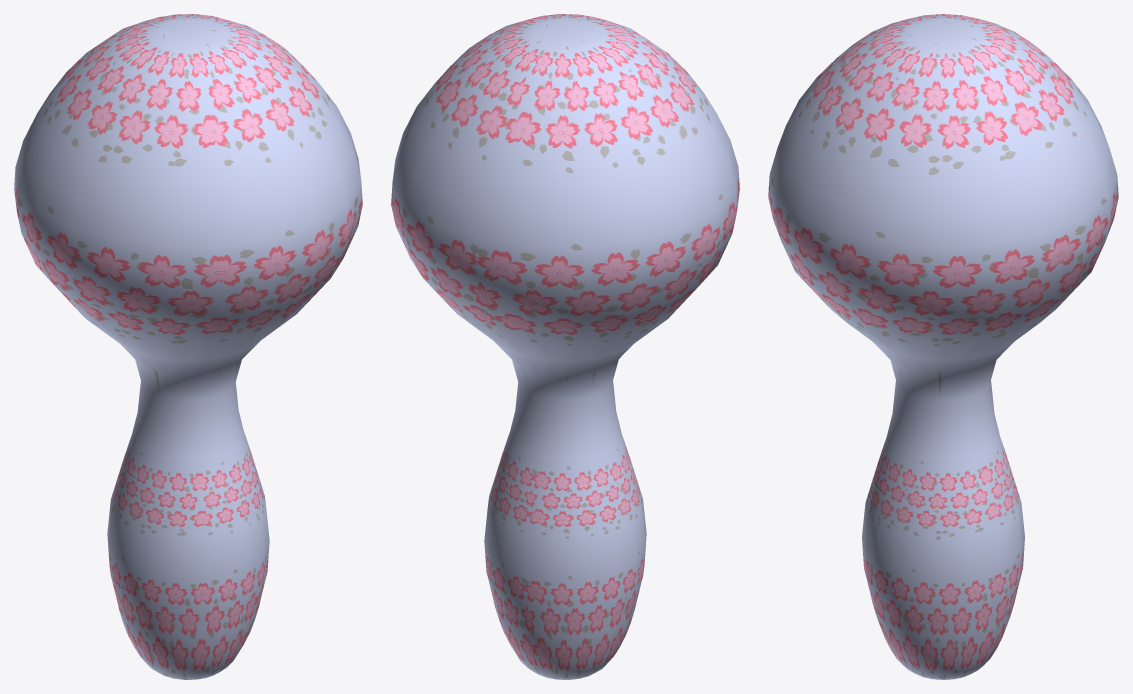
The model's file is Ble.fbx.
3 renders of one model, left to right at view 1: azimuth 30°, elevation 25°; view 2: azimuth 150°, elevation 25°; view 3: azimuth 270°, elevation 25°, orthographic.
Parts seen in each view (by area): view 1: Head; view 2: Head; view 3: Head.
Part boxes in pixels (box(x1,y1,x2,y2)): Head: box(14, 14, 362, 679); Head: box(391, 14, 739, 679); Head: box(768, 14, 1118, 679).
Size of the model in its own units: 546 by 1096 by 546.
Materials: 1 (1 with a texture image).
